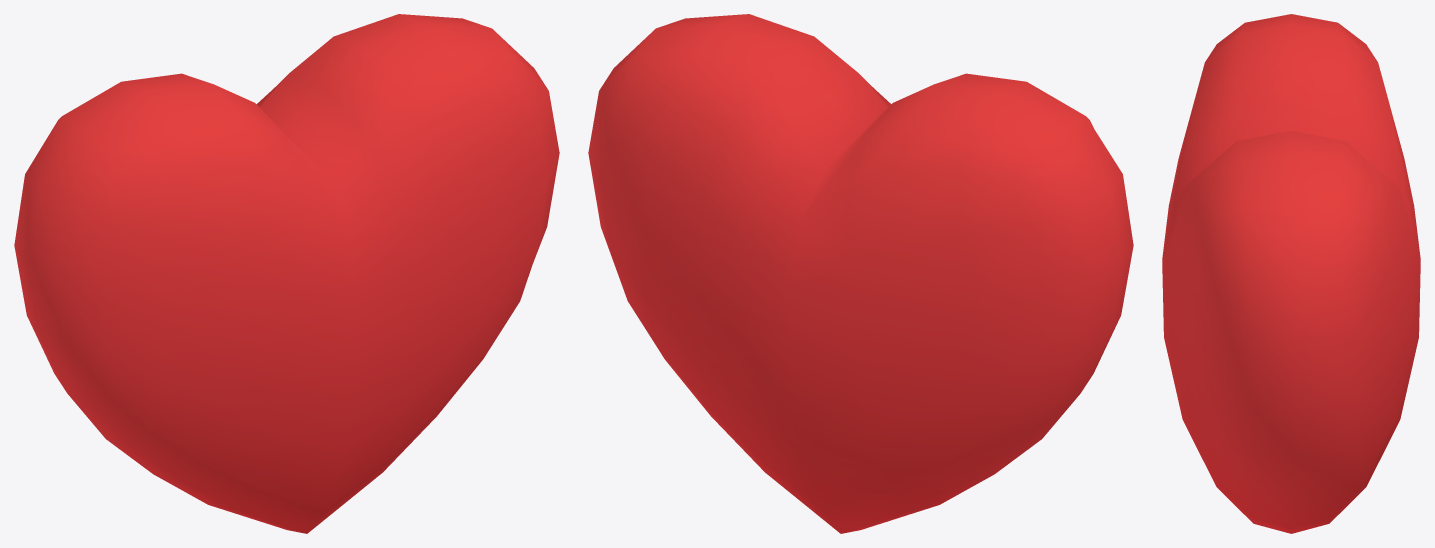
Rendered from heart_001.glb.
3 renders of one model, left to right at view 1: azimuth 30°, elevation 25°; view 2: azimuth 150°, elevation 25°; view 3: azimuth 270°, elevation 25°, orthographic. The views are drawn at different scales.
Visible parts, largest first — view 1: heart_001; view 2: heart_001; view 3: heart_001.
Part boxes in pixels (bbox=[...]): heart_001: bbox=[14, 14, 559, 533]; heart_001: bbox=[588, 14, 1133, 533]; heart_001: bbox=[1162, 14, 1420, 533].
Bounding box in the file's own units: 1.07 × 0.9268 × 0.4886.
1 material, 1 textured.
